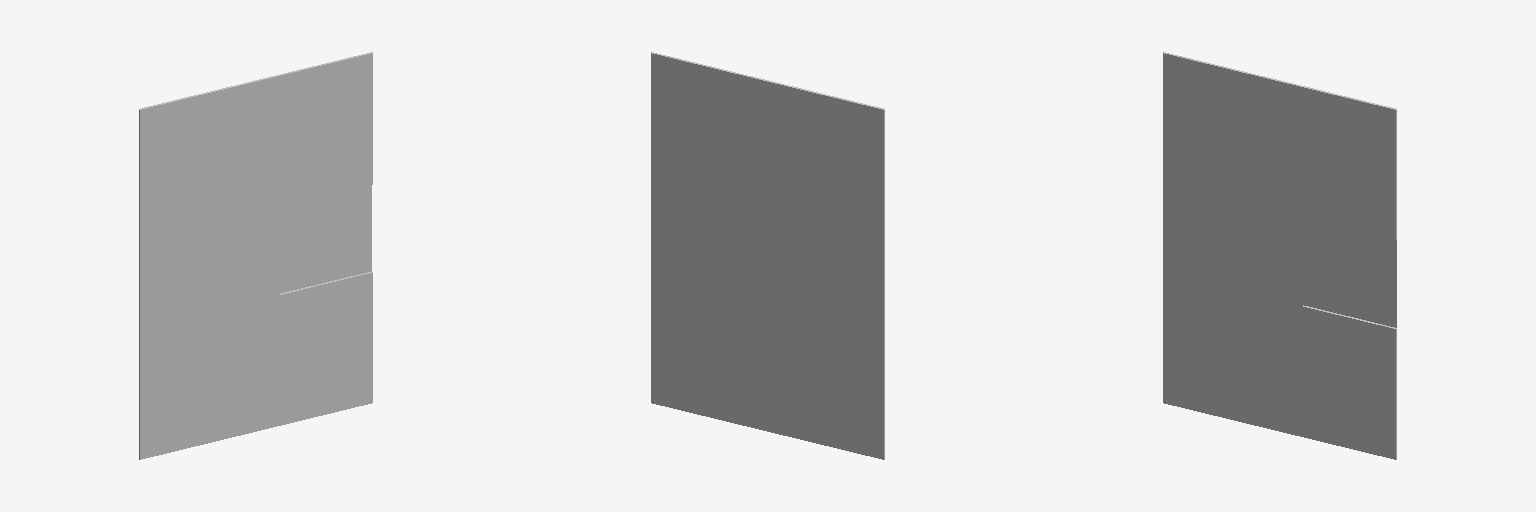
The picture shows the model from 3 angles: view 1: azimuth 30°, elevation 25°; view 2: azimuth 150°, elevation 25°; view 3: azimuth 330°, elevation 25°; orthographic projection.
Parts seen in each view (by area): view 1: Cube; view 2: Cube; view 3: Cube.
Boxes of the visible parts, <box> form: Cube: <box>139,52,372,459</box>; Cube: <box>651,52,884,459</box>; Cube: <box>1163,52,1396,459</box>.
Size of the model in its own units: 0.37 by 0.53 by 0.004.
Materials: 1 (1 with a texture image).